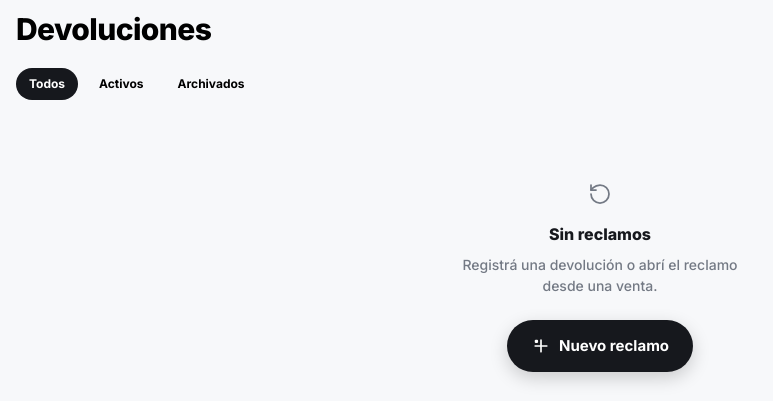
reclamos › logs failed archive loads and keeps a neutral empty list without alerts
Click the button "Archivados": (211,84) [164, 68, 258, 100]
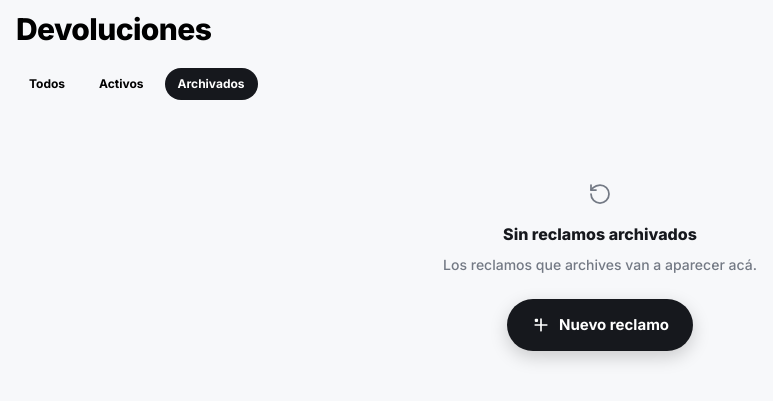
Result: the heading "Sin reclamos archivados" is shown at [503, 222, 697, 246]
